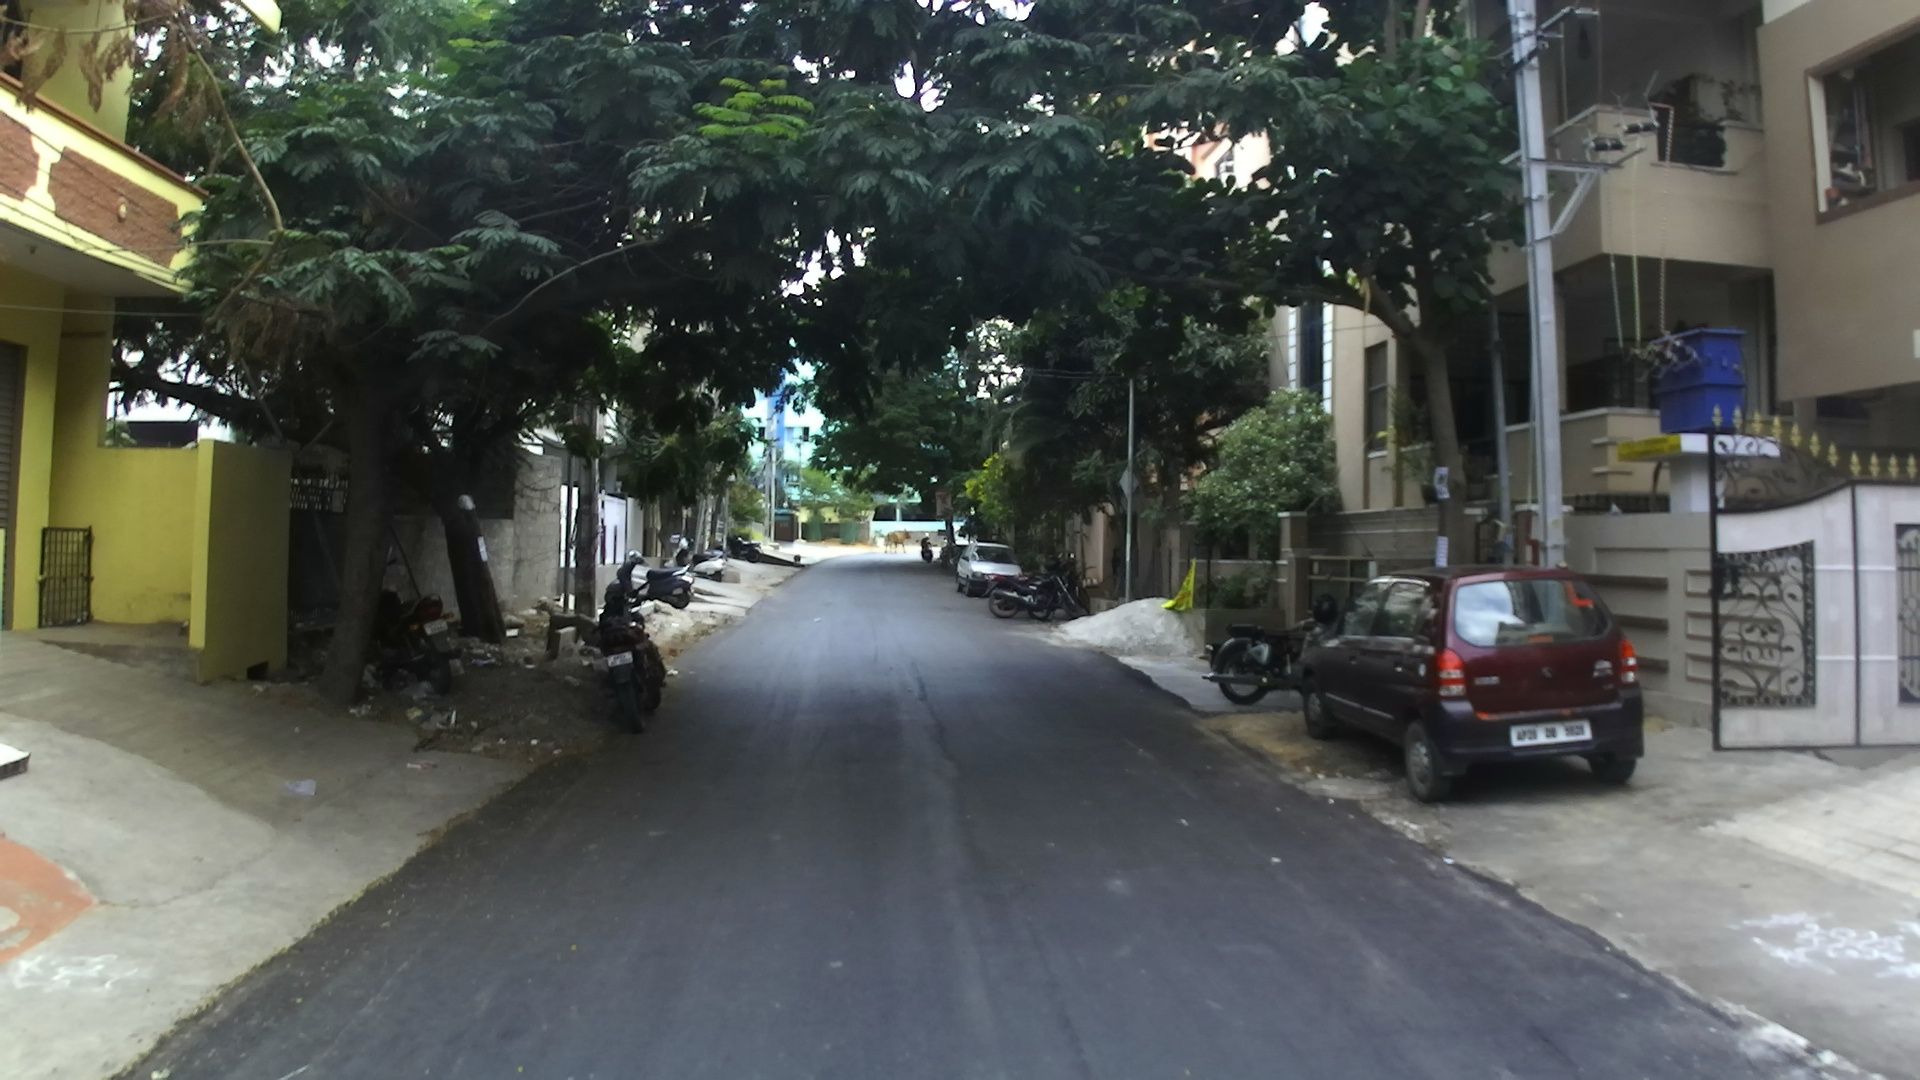vehicle: (1294, 567, 1647, 802), (589, 612, 667, 731), (620, 560, 694, 612), (956, 543, 1025, 597)
